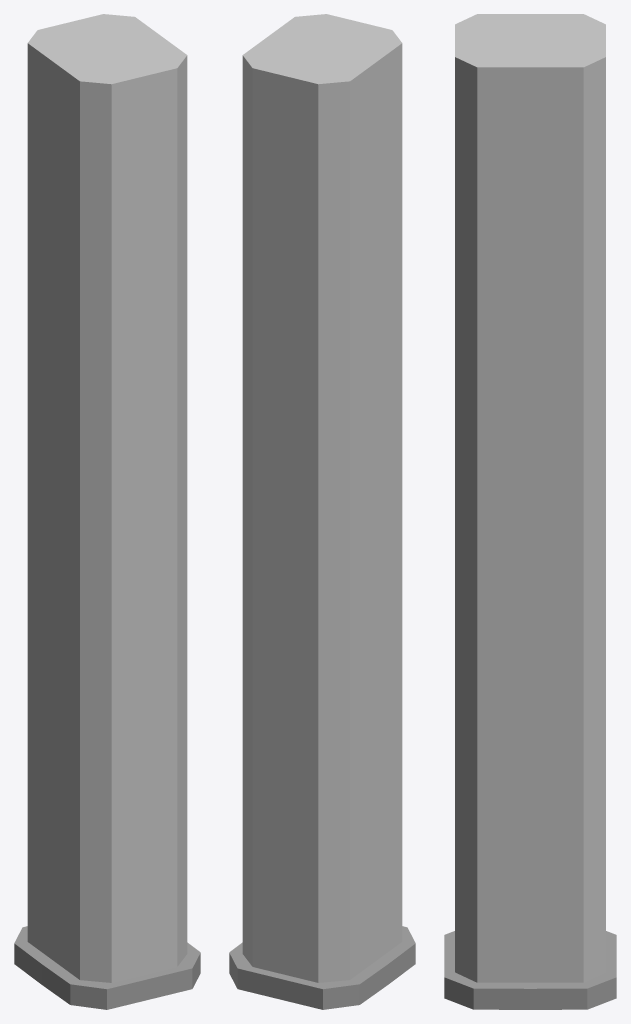
Rendered from Columna 1.fbx.
The picture shows the model from 3 angles, left to right: view 1: azimuth 30°, elevation 25°; view 2: azimuth 150°, elevation 25°; view 3: azimuth 270°, elevation 25°; orthographic projection.
Visible parts, largest first — view 1: Cube; view 2: Cube; view 3: Cube.
Boxes of the visible parts, x1=… form: Cube: x1=14, y1=14, x2=200, y2=1009; Cube: x1=229, y1=14, x2=415, y2=1009; Cube: x1=444, y1=14, x2=616, y2=1009.
Bounding box in the file's own units: 45 × 300 × 50.
Materials: 1 (1 with a texture image).
